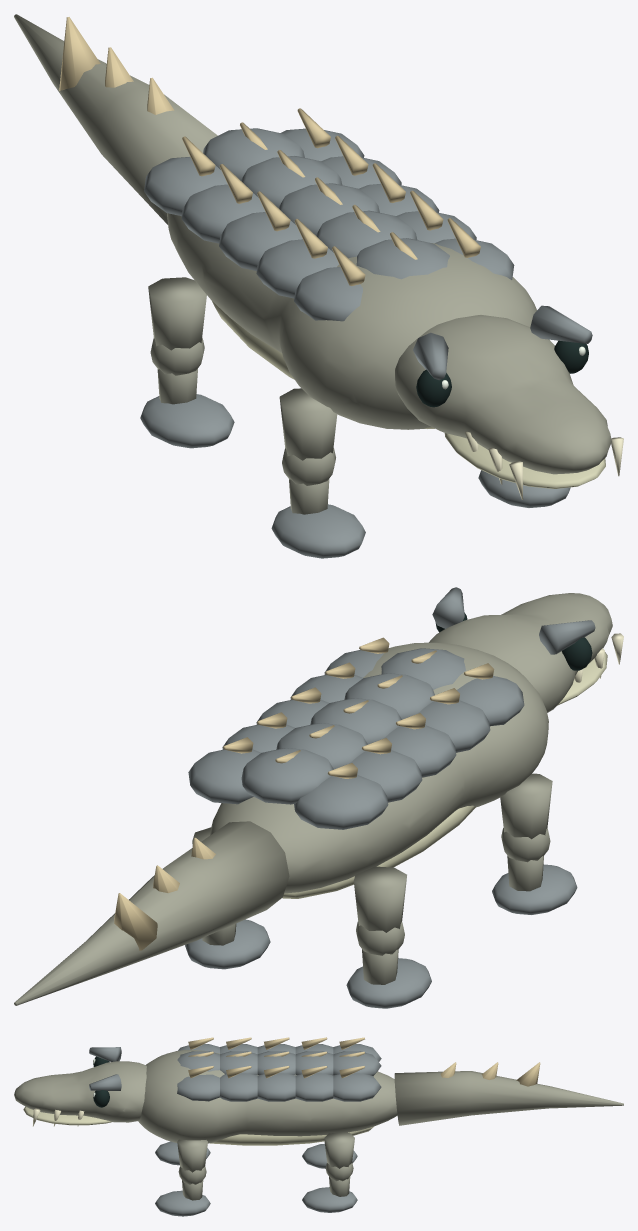
The model's file is reefjaw.glb.
3 renders of one model, top to bottom at view 1: azimuth 30°, elevation 25°; view 2: azimuth 150°, elevation 25°; view 3: azimuth 270°, elevation 25°, orthographic. The views are drawn at different scales.
Parts seen in each view (by area): view 1: ReefjawTorso, ReefjawLongHead, SwimmingTail, SpeciesFoot.018, SpeciesFoot.020, UpperLeg.020, UpperLeg.018, ReefScale.001, ReefScale, ReefScale.012, ReefScale.007, ReefScale.006 (+22 smaller); view 2: ReefjawTorso, SwimmingTail, ReefjawLongHead, ReefScale, ReefScale.001, UpperLeg.020, ReefScale.002, UpperLeg.018, SpeciesFoot.020, SpeciesFoot.018, SpeciesFoot.021, ReefScale.007 (+21 smaller); view 3: ReefjawTorso, SwimmingTail, ReefjawLongHead, ReefScale.002, ReefjawUnderbelly, ReefScale.005, ReefScale.008, ReefScale.011, SpeciesFoot.021, SpeciesFoot.019, ReefScale.014, UpperLeg.021 (+17 smaller).
Boxes of the visible parts, box(x1,y1,x2,y2) form: ReefjawTorso: box(167, 213, 536, 429); ReefjawLongHead: box(395, 315, 611, 474); SwimmingTail: box(14, 14, 217, 224); SpeciesFoot.018: box(271, 504, 365, 558); SpeciesFoot.020: box(140, 394, 234, 448); UpperLeg.020: box(148, 277, 206, 350); UpperLeg.018: box(279, 388, 337, 460); ReefScale.001: box(203, 128, 304, 180); ReefScale: box(144, 157, 227, 216); ReefScale.012: box(294, 267, 362, 321); ReefScale.007: box(278, 183, 379, 235); ReefScale.006: box(219, 212, 302, 270); ReefjawTorso: box(210, 642, 548, 893); SwimmingTail: box(14, 821, 289, 1005); ReefjawLongHead: box(429, 593, 612, 712); ReefScale: box(294, 775, 388, 829); ReefScale.001: box(241, 748, 333, 804); UpperLeg.020: box(353, 866, 406, 932); ReefScale.002: box(188, 749, 261, 804); UpperLeg.018: box(500, 773, 552, 839); SpeciesFoot.020: box(346, 958, 431, 1008); SpeciesFoot.018: box(492, 864, 577, 914); SpeciesFoot.021: box(185, 919, 270, 969); ReefScale.007: box(310, 698, 401, 744); ReefjawTorso: box(138, 1050, 397, 1143); SwimmingTail: box(394, 1071, 623, 1125); ReefjawLongHead: box(14, 1061, 146, 1122); ReefScale.002: box(333, 1073, 381, 1101); ReefjawUnderbelly: box(210, 1126, 373, 1145); ReefScale.005: box(295, 1073, 333, 1101); ReefScale.008: box(257, 1073, 295, 1101); ReefScale.011: box(220, 1073, 257, 1101); SpeciesFoot.021: box(302, 1187, 357, 1212); SpeciesFoot.019: box(155, 1190, 210, 1216); ReefScale.014: box(177, 1074, 219, 1101); UpperLeg.021: box(324, 1132, 354, 1168).
Bounding box in the file's own units: 1.18 × 1.07 × 4.36.
